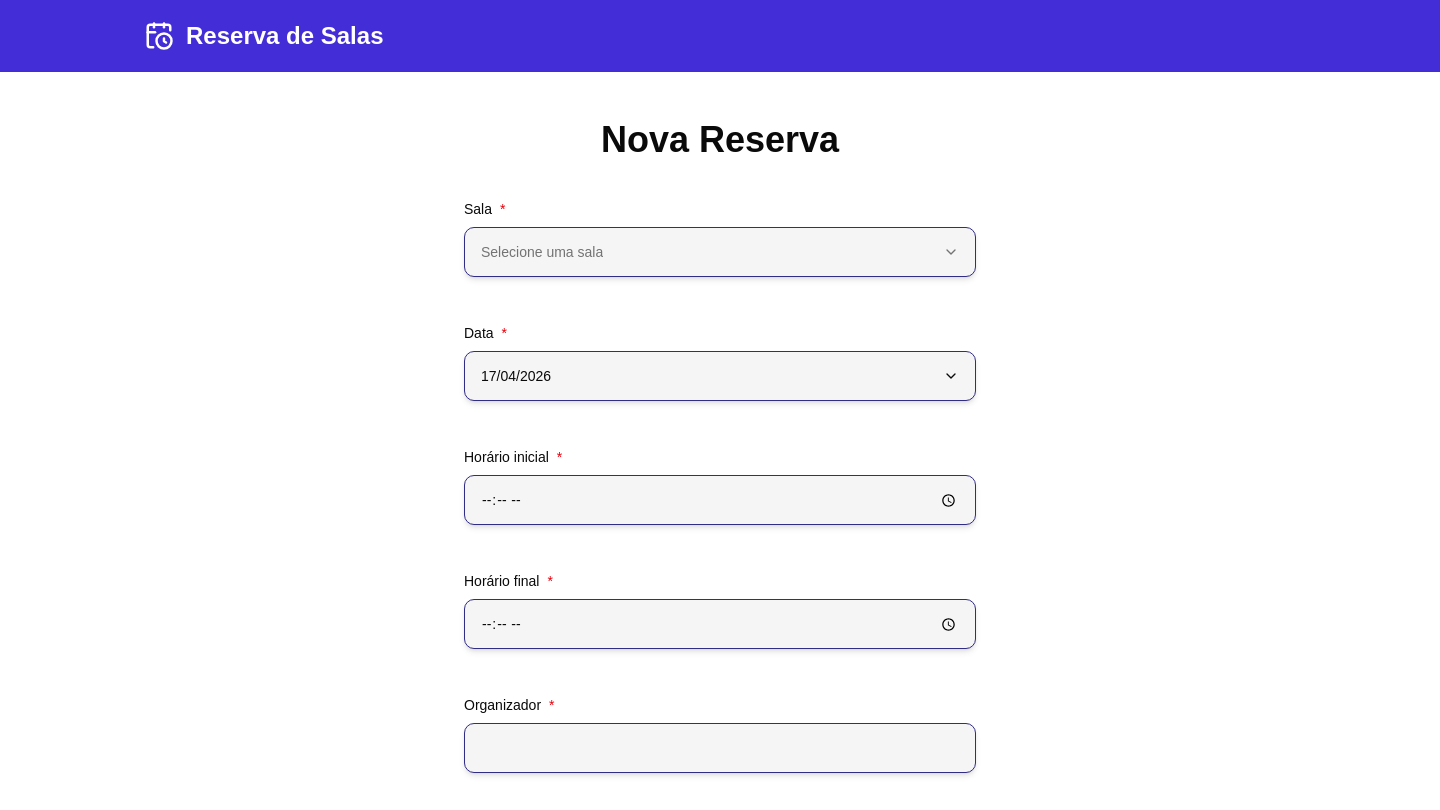
CreateReservation › Submissão do Formulário › deve notificar com erro quando sala não for encontrada
The image size is (1440, 810).
Expected: the text "Selecione uma sala" is shown, left=481, top=242, right=603, bottom=262
Click the dropdown with test id "select-salaId": coordinates (542, 252) left=464, top=227, right=976, bottom=277
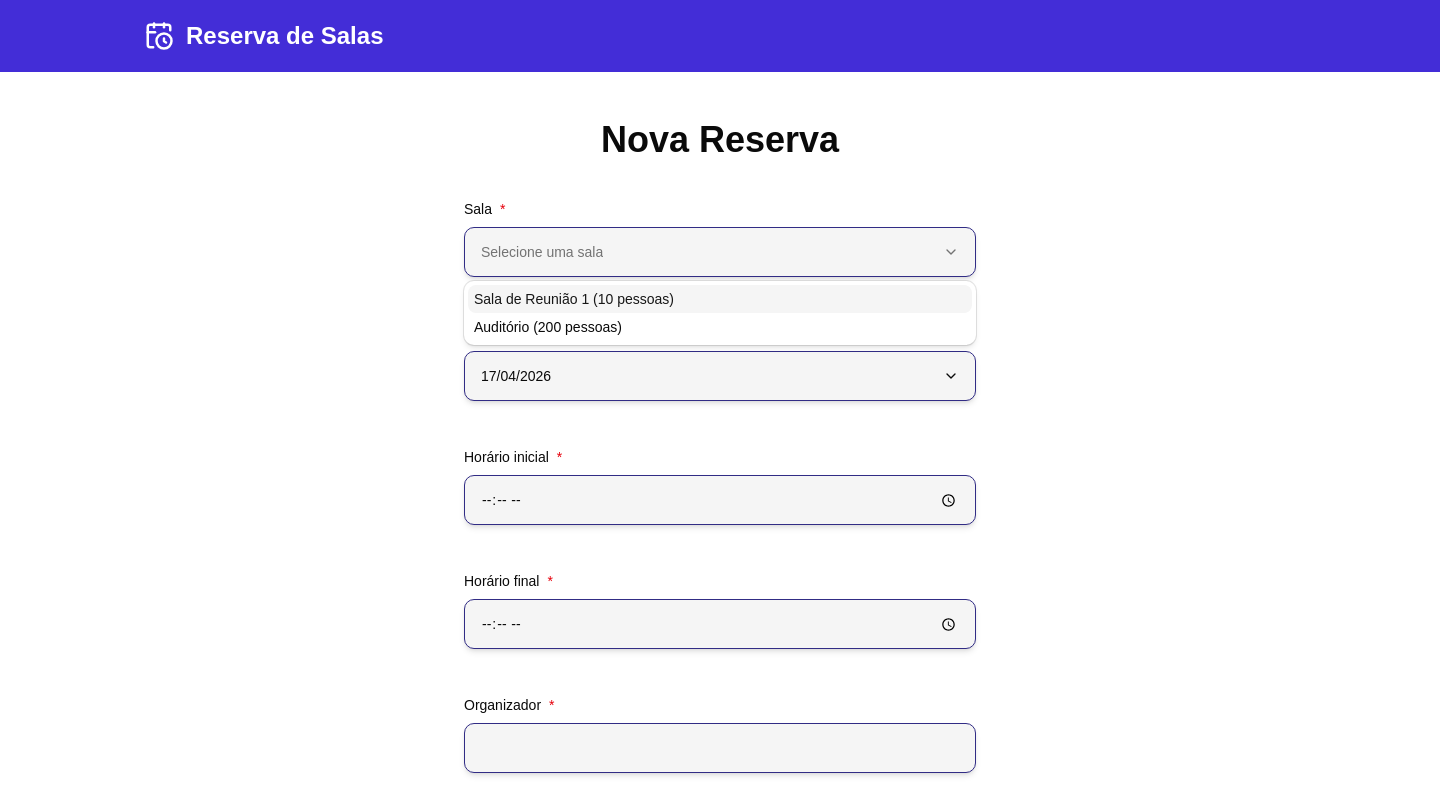
Click the option with test id "select-item-salaId": coordinates (574, 299) left=468, top=285, right=972, bottom=313
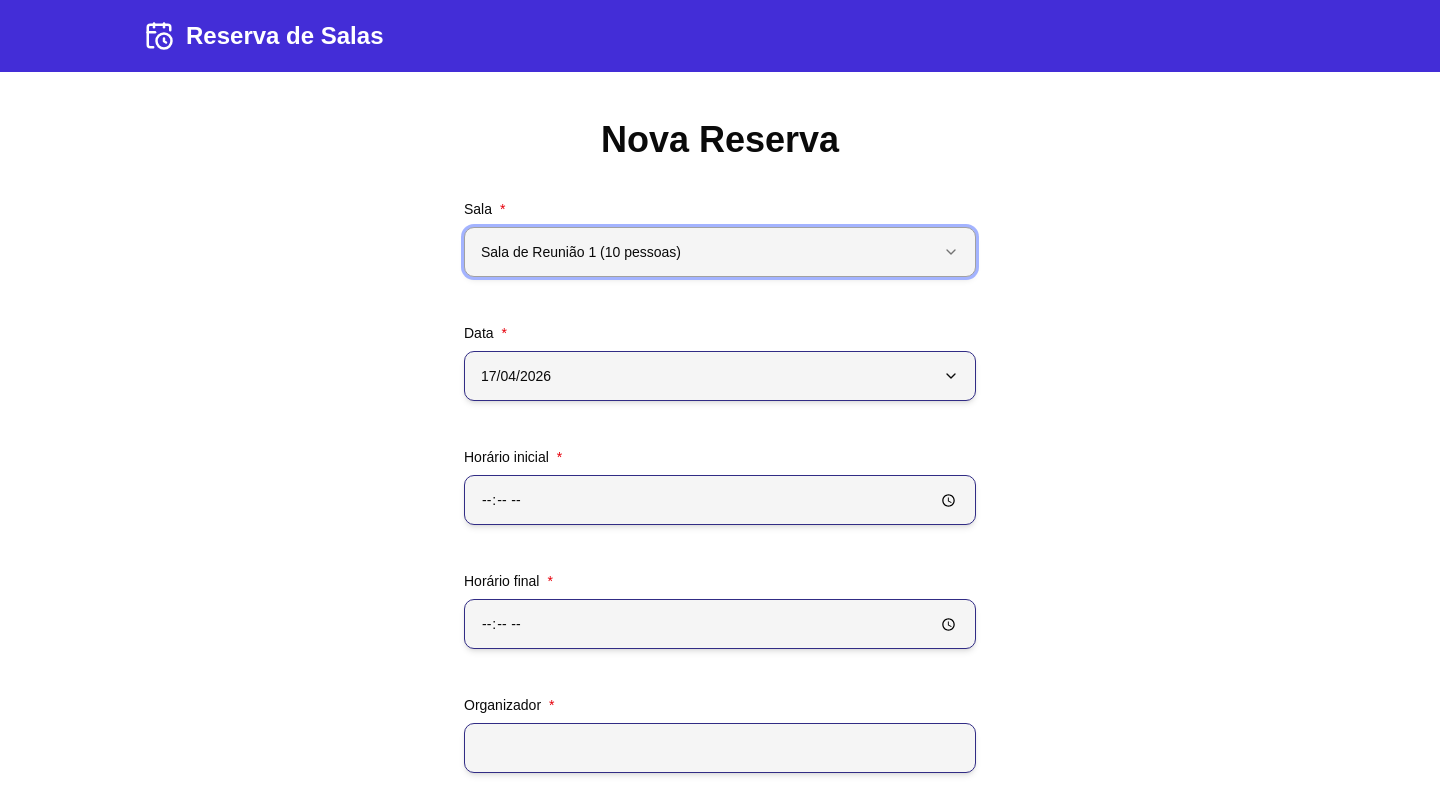
In the time field with test id "input-inicio": coordinates (720, 500) left=464, top=475, right=976, bottom=525, type "19:00"
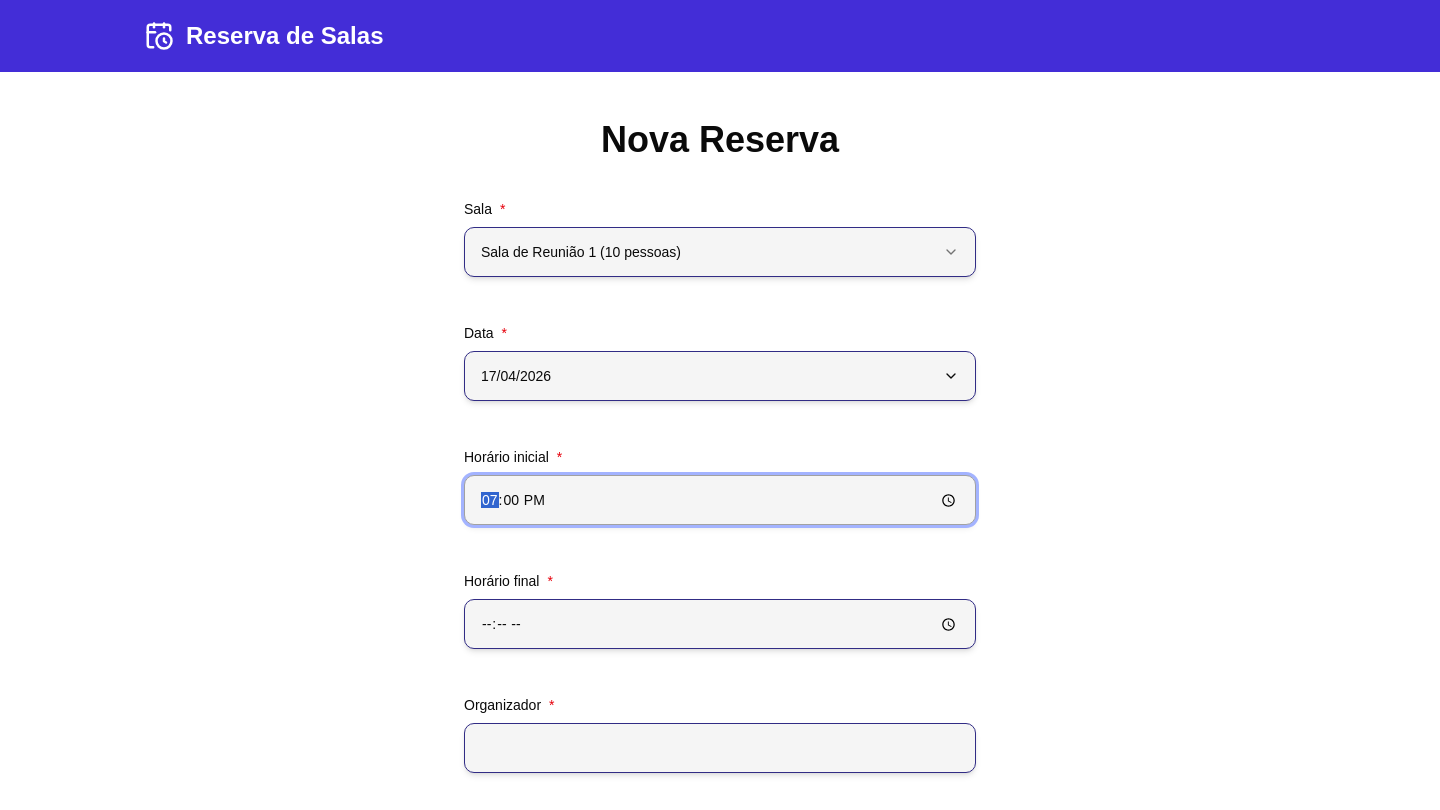
In the time field with test id "input-fim": coordinates (720, 624) left=464, top=599, right=976, bottom=649, type "19:30"
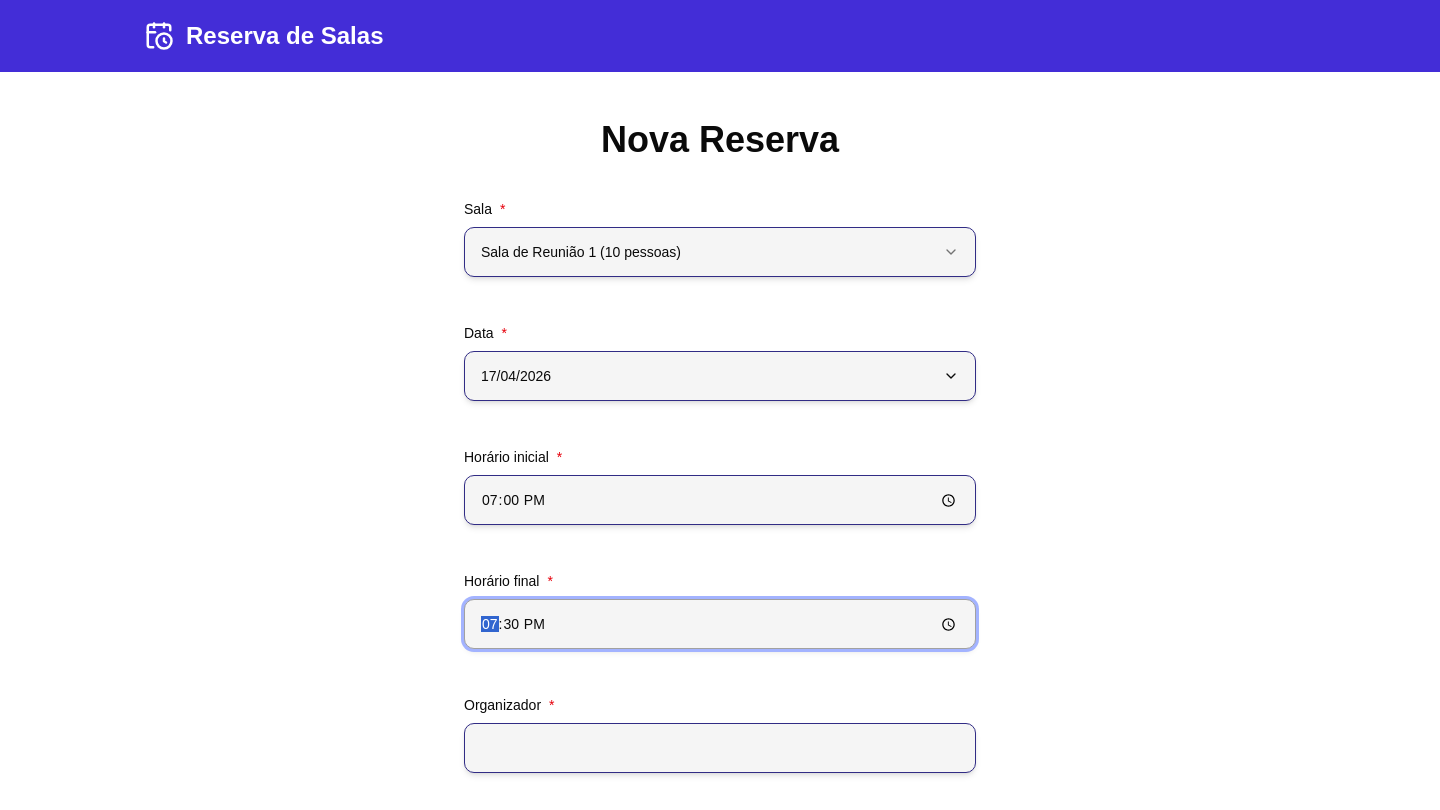
In the field with test id "input-organizador": coordinates (720, 748) left=464, top=723, right=976, bottom=773, type "Usuário Teste"
(page scrolled)
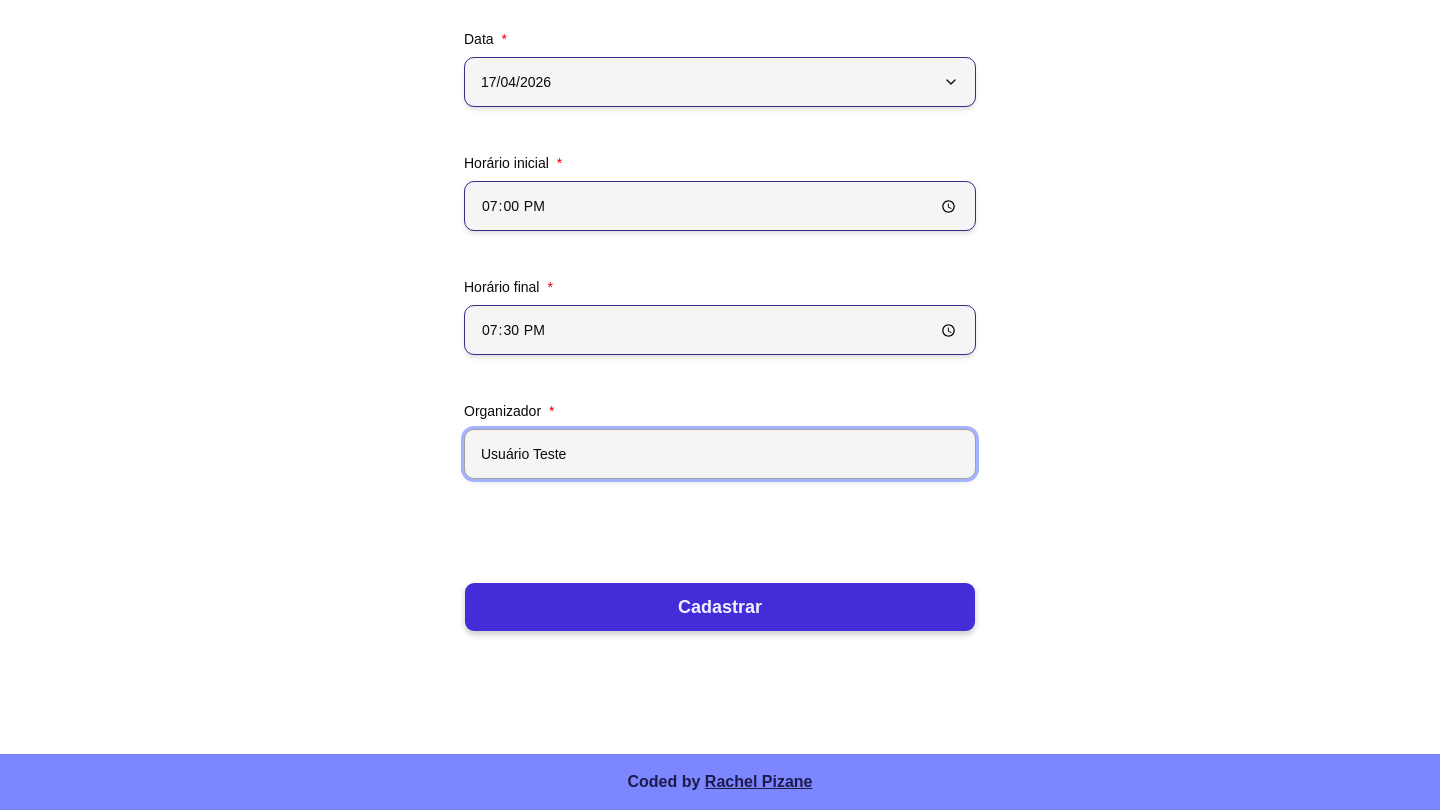
Click the button "Cadastrar": coordinates (720, 607) left=464, top=582, right=976, bottom=632
(page scrolled)
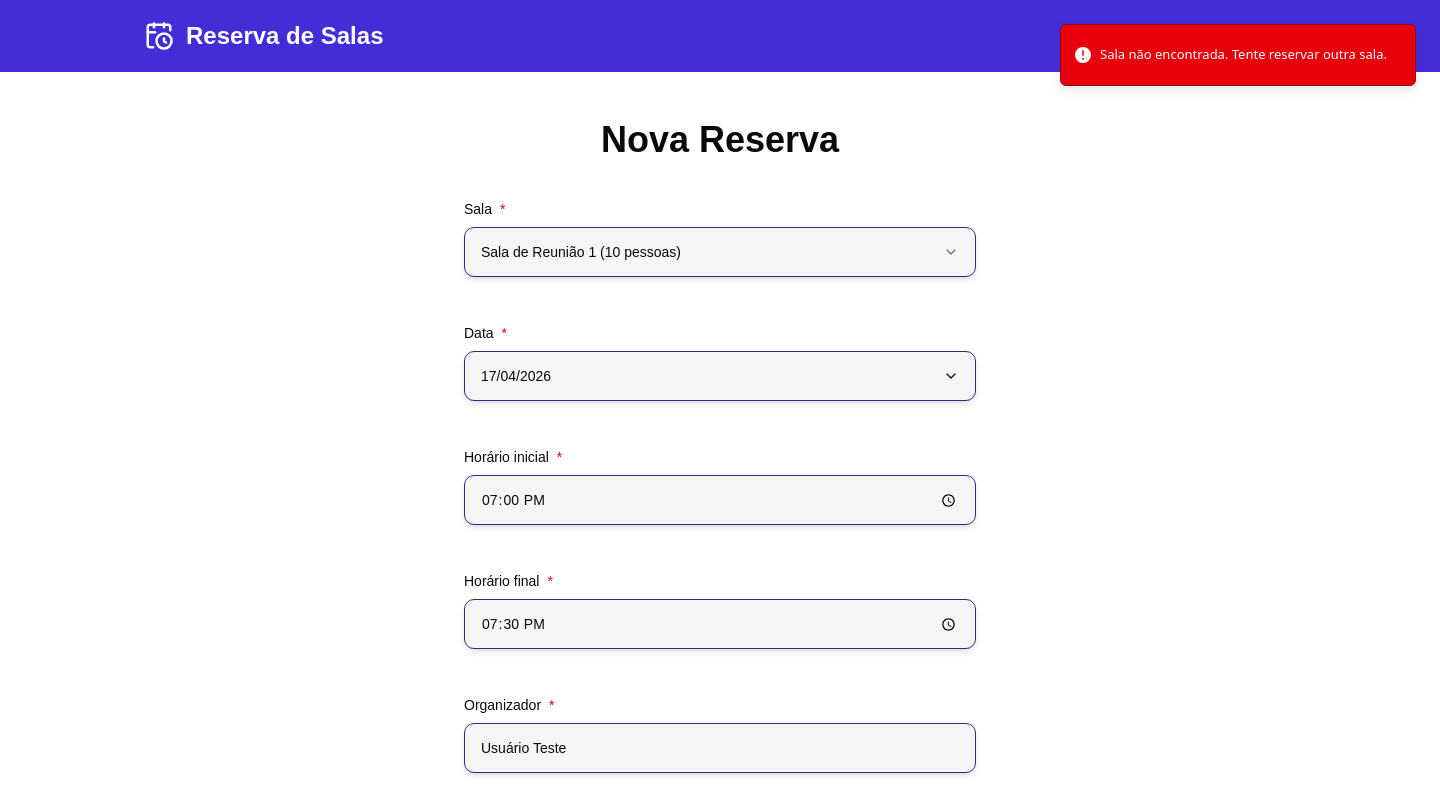
Expected: the heading "Nova Reserva" is shown, left=601, top=119, right=839, bottom=160
Now the text "Sala não encontrada. Tente reservar outra sala." is shown, box left=1100, top=45, right=1387, bottom=64
